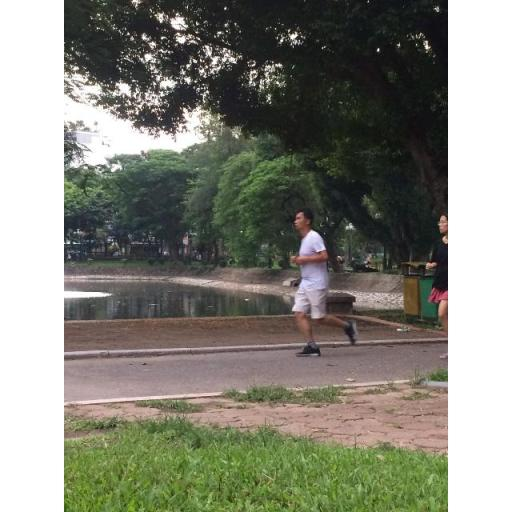Running: (278, 203, 367, 366)
